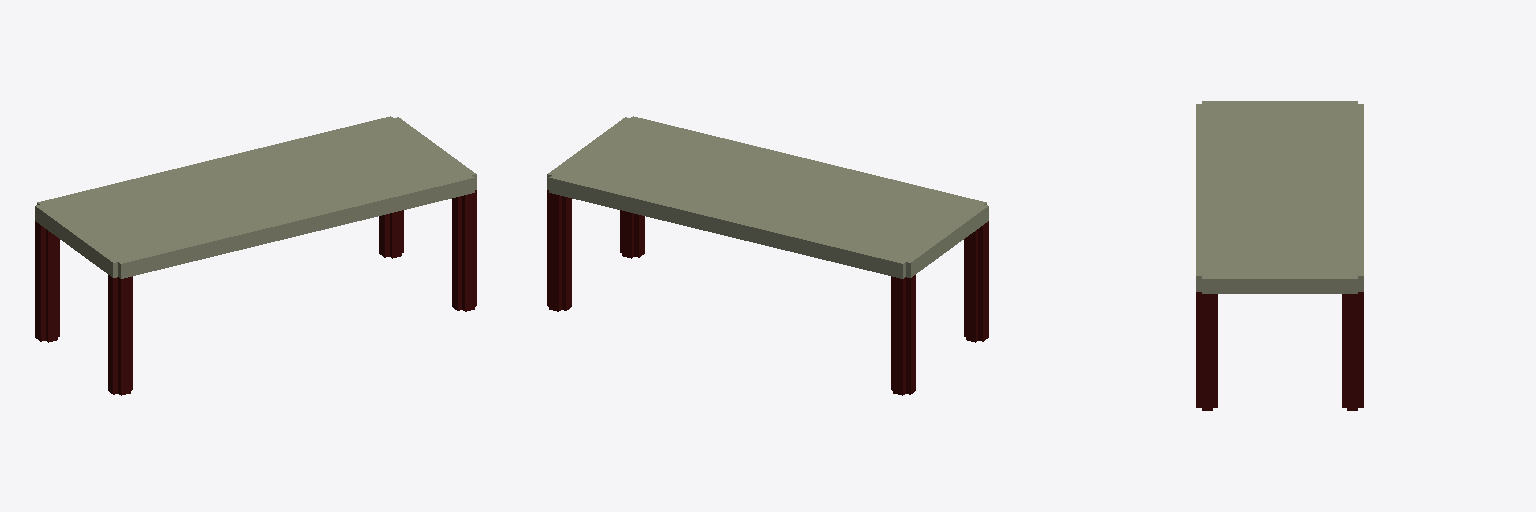
3 views of the same model, side by side, from view 1: azimuth 30°, elevation 25°; view 2: azimuth 150°, elevation 25°; view 3: azimuth 270°, elevation 25° (orthographic).
Parts seen in each view (by area): view 1: object 1; view 2: object 1; view 3: object 1.
Part boxes in pixels (x1,y1,x2,y2): object 1: (35, 116, 476, 395); object 1: (547, 116, 988, 395); object 1: (1196, 101, 1363, 410).
Bounding box in the file's own units: 7.5 × 2.6 × 3.
Materials: 1 (1 with a texture image).